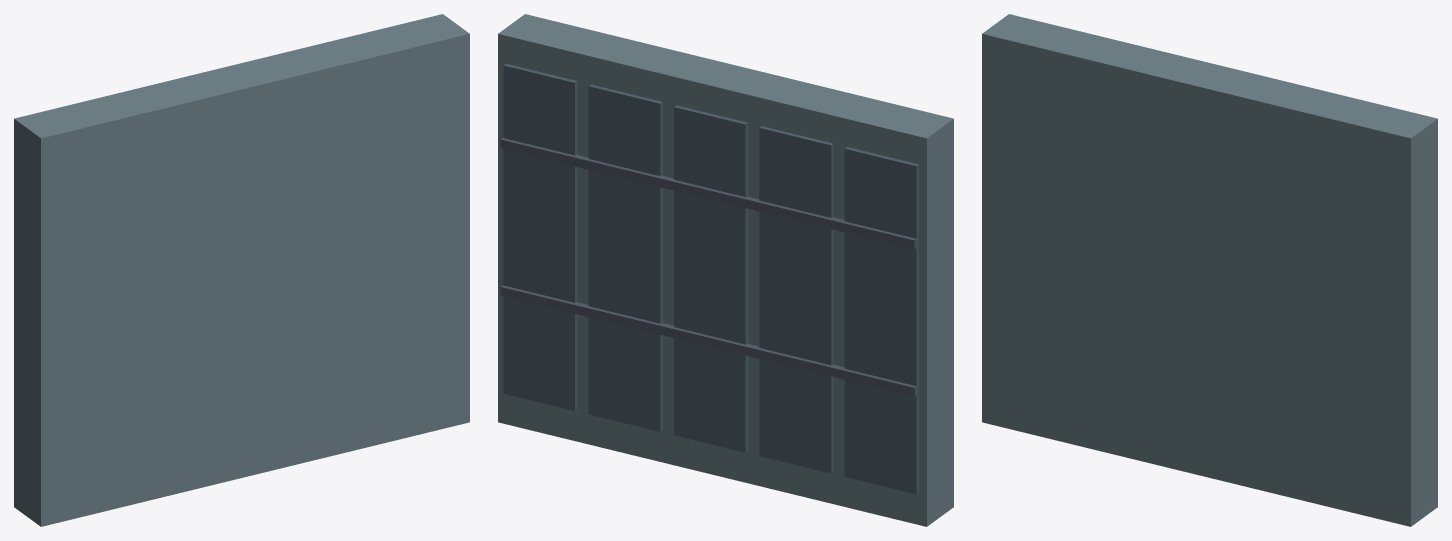
Rendered from nivalis_gate.glb.
3 renders of one model, left to right at view 1: azimuth 30°, elevation 25°; view 2: azimuth 150°, elevation 25°; view 3: azimuth 330°, elevation 25°, orthographic.
Visible parts, largest first — view 1: Nivalis gate leaf; view 2: Nivalis gate leaf, Gate leaf panel, Gate leaf panel.003, Gate leaf panel.001, Gate leaf panel.004, Gate leaf panel.002, Gate leaf band, Gate leaf band.001; view 3: Nivalis gate leaf.
Part boxes in pixels (<box>): Nivalis gate leaf: <box>14,14,469,526</box>; Nivalis gate leaf: <box>498,14,953,526</box>; Gate leaf panel: <box>844,147,918,494</box>; Gate leaf panel.003: <box>588,84,662,431</box>; Gate leaf panel.001: <box>759,126,833,473</box>; Gate leaf panel.004: <box>503,63,577,410</box>; Gate leaf panel.002: <box>674,105,748,452</box>; Gate leaf band: <box>500,285,918,396</box>; Gate leaf band.001: <box>500,138,918,249</box>; Nivalis gate leaf: <box>982,14,1437,526</box>.
Bounding box in the file's own units: 10.05 × 8.7 × 1.29.
